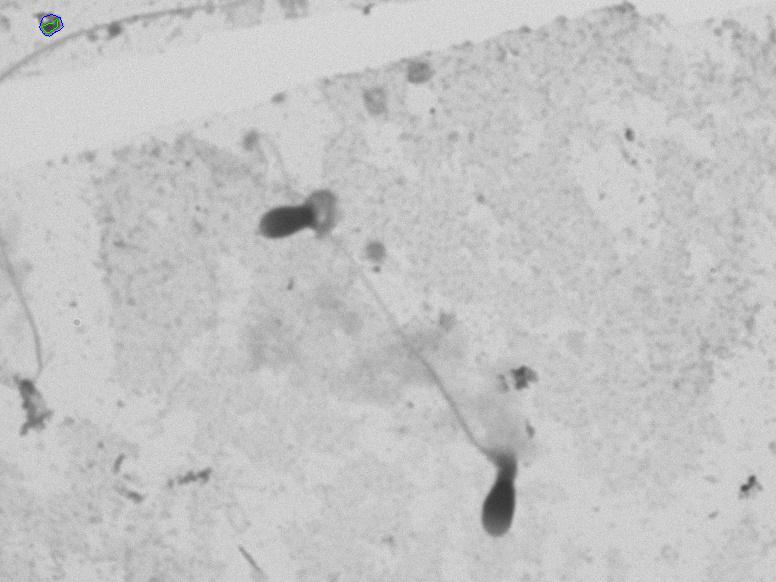Abnormal: (346, 235, 584, 564), (239, 134, 363, 292)
